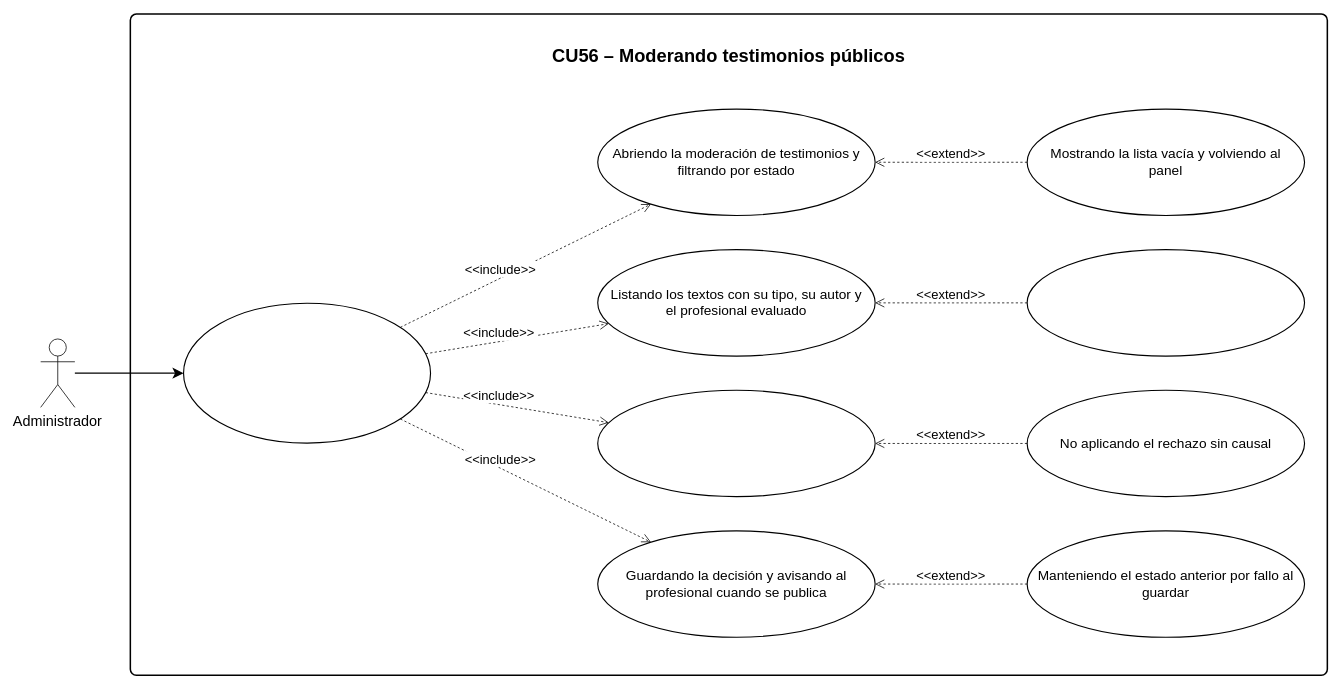
Image size: 1341x689. Some labels were removed from this diagram. Here are the shapes that lost their labels. From the top down, the centre of each, then its label:
(1165,302): Saneando caracteres del testimonio
(307,372): Moderando testimonios públicos
(736,443): Publicando el texto o rechazándolo indicando la causal
